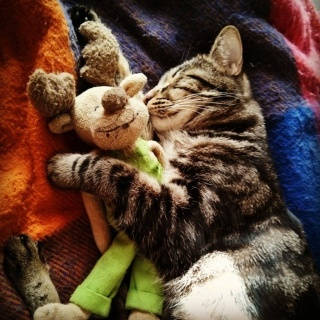Cat: (46, 23, 319, 319)
